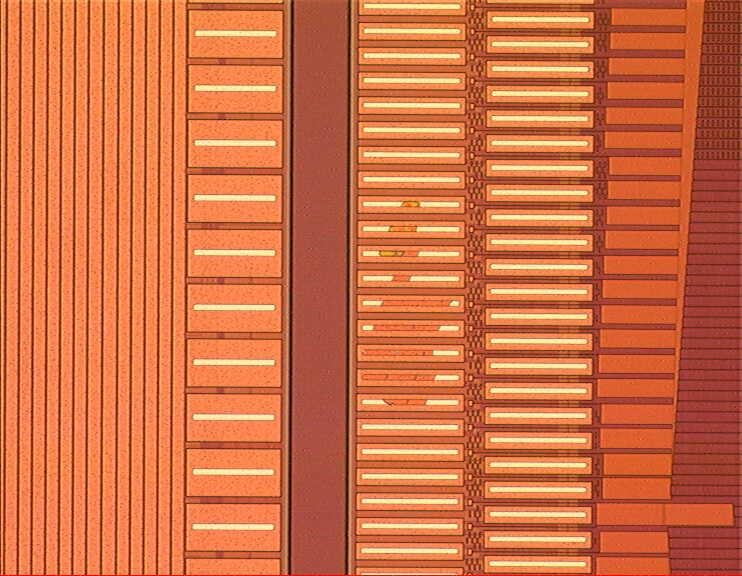COATING BAD: (345, 191, 467, 424)
